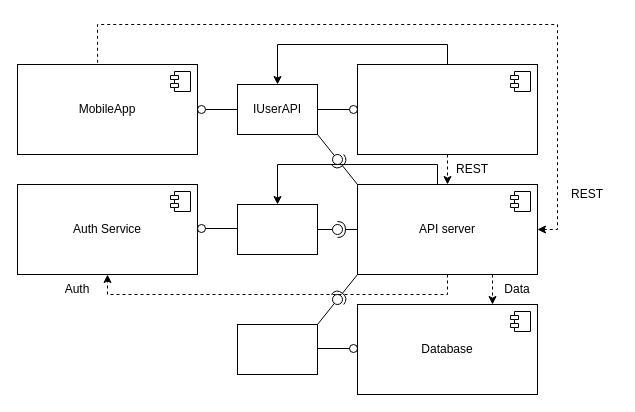
This 635x412 diagram has some shape labels left out. The centre of each missing label's shape, as x and y in pixels:
"IAuthService" belongs at (277,229).
"IDatabase" belongs at (277,349).
"WebApp" belongs at (447,109).
